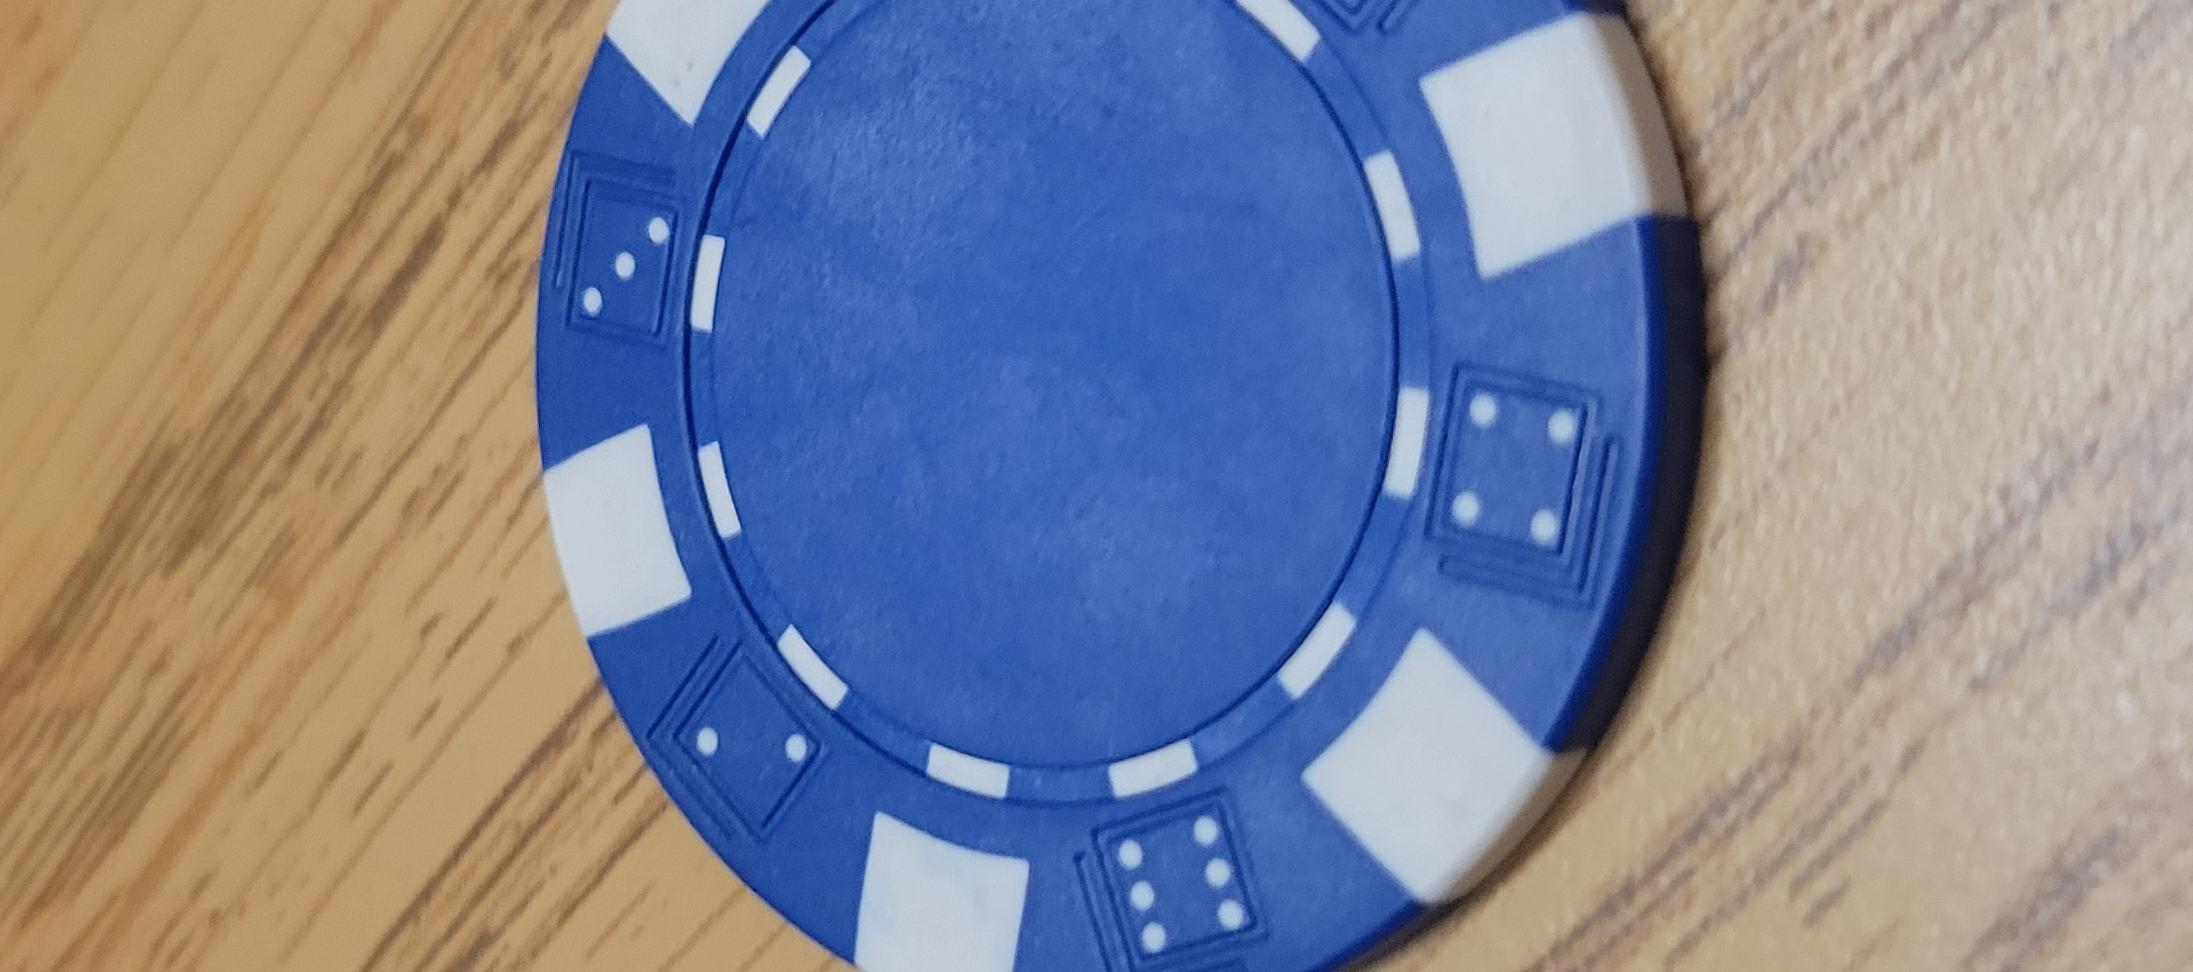Chip: (1, 371, 1399, 972)
